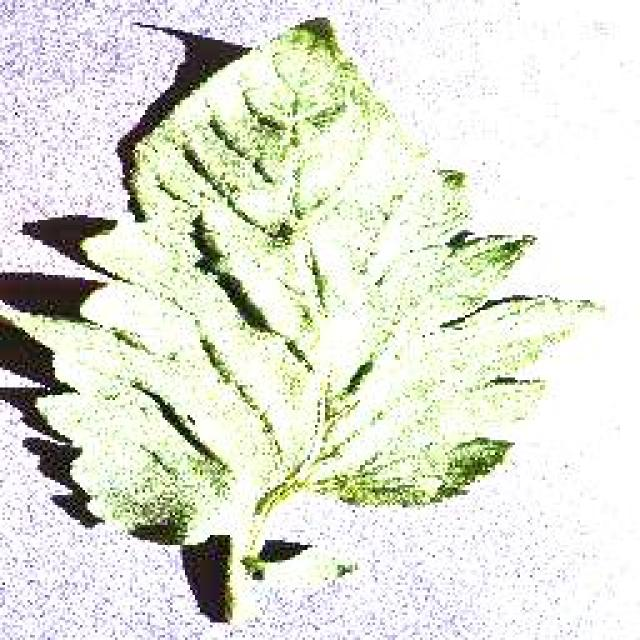Tomato___healthy: (0, 15, 618, 632)
